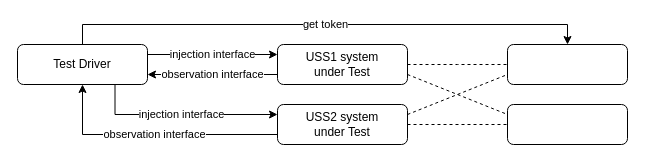
This 645x162 diagram has some shape labels left out. The shapes that lost their labels are listed below. From the top down, each one's box as (x1, y1, x2, y2) in pixels, then its label:
(506, 44, 628, 84): Authorization Server (Staging)
(506, 104, 628, 144): DSS (Staging)
